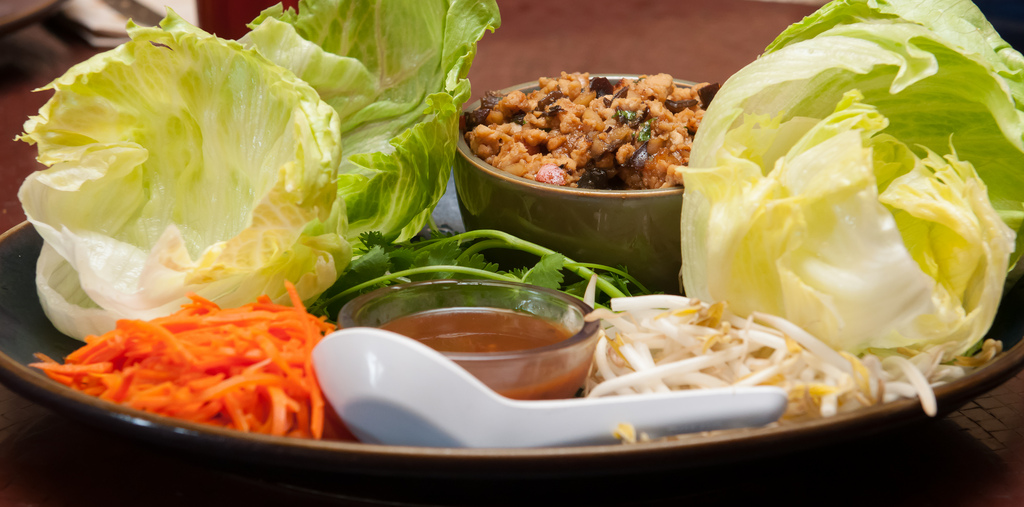chopped lettuce: (38, 1, 493, 329), (687, 1, 1024, 340)
